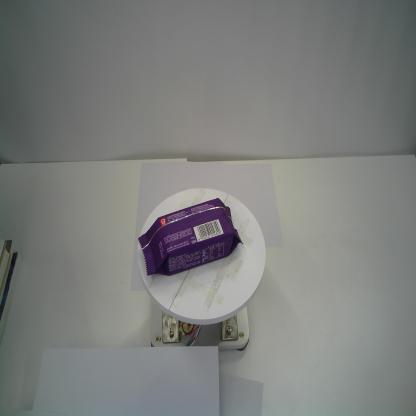Dessert: (137, 195, 245, 281)
